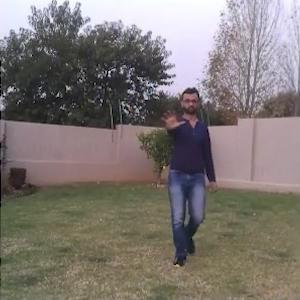follow_hand: (157, 102, 184, 133)
